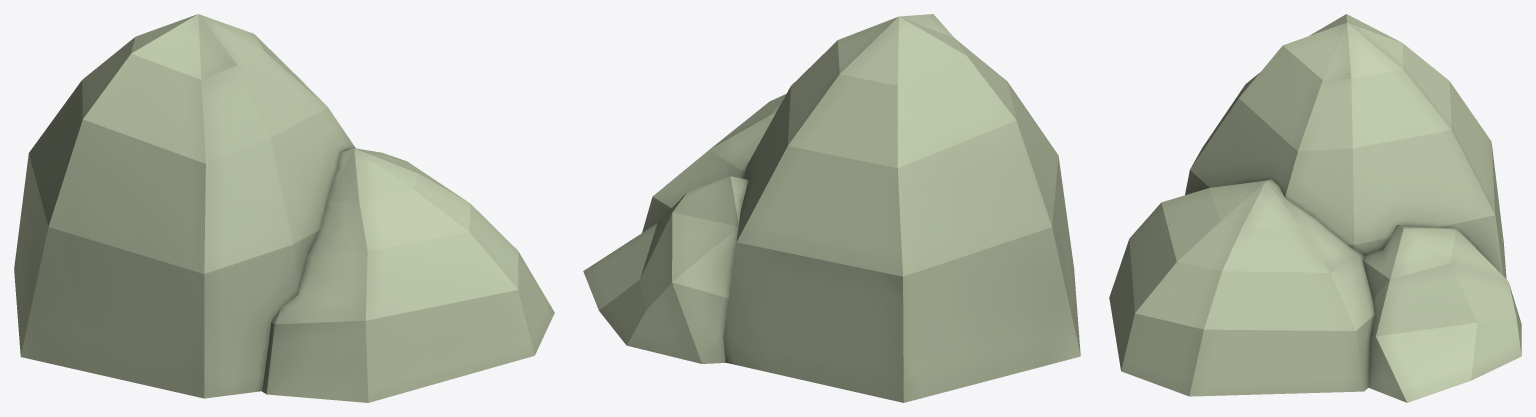
Rendered from RockPack_02.glb.
3 renders of one model, left to right at view 1: azimuth 30°, elevation 25°; view 2: azimuth 150°, elevation 25°; view 3: azimuth 270°, elevation 25°, orthographic. The views are drawn at different scales.
Visible parts, largest first — view 1: RockPack_02; view 2: RockPack_02; view 3: RockPack_02.
Boxes of the visible parts, box(x1,y1,x2,y2) form: RockPack_02: box(14, 14, 554, 402); RockPack_02: box(583, 14, 1080, 402); RockPack_02: box(1109, 14, 1521, 402).
Size of the model in its own units: 3.74 by 2.31 by 3.32.
1 material, 1 textured.
